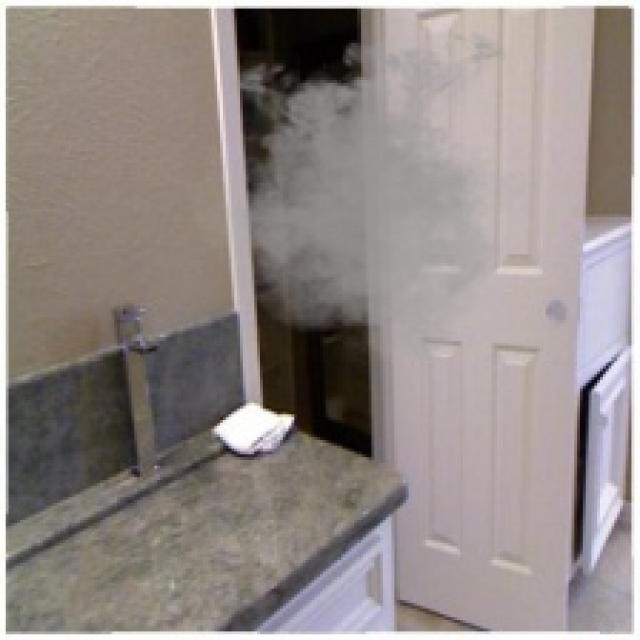Smoke: (171, 20, 566, 369)
